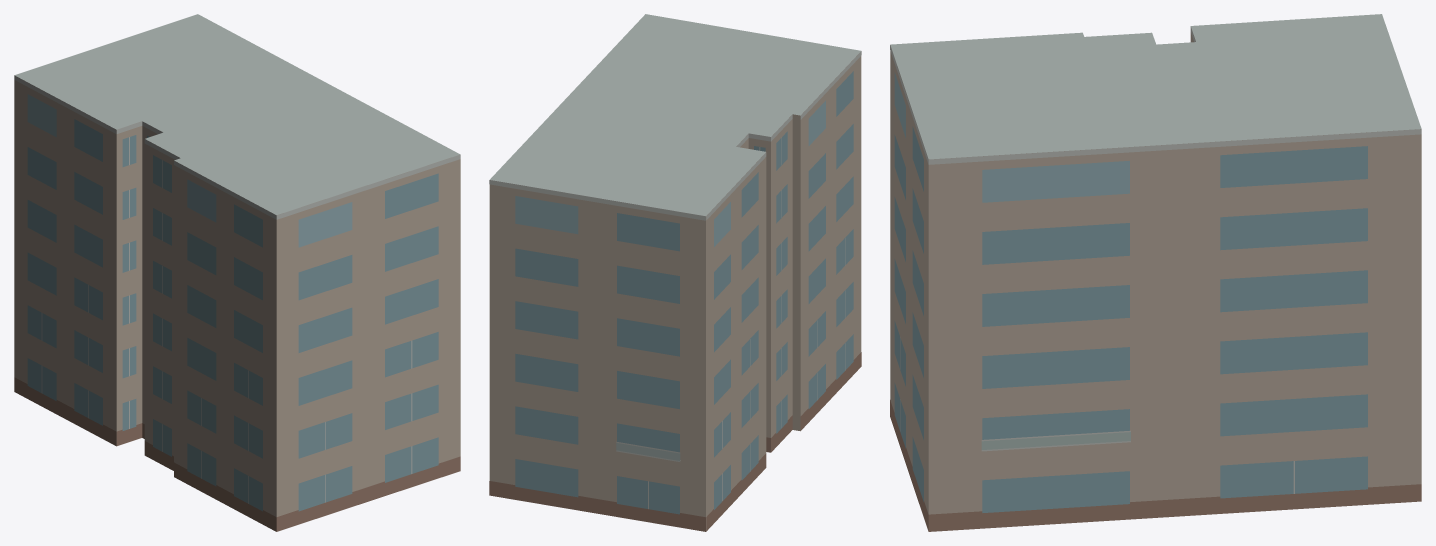
Rendered from survey-upis-32734521.glb.
The picture shows the model from 3 angles, left to right: view 1: azimuth 30°, elevation 25°; view 2: azimuth 150°, elevation 25°; view 3: azimuth 270°, elevation 25°; orthographic projection. The views are drawn at different scales.
Visible parts, largest first — view 1: survey-upis-32734521.tmp; view 2: survey-upis-32734521.tmp; view 3: survey-upis-32734521.tmp.
Boxes of the visible parts, left/top/right/bottom form: survey-upis-32734521.tmp: left=14, top=14, right=460, bottom=531; survey-upis-32734521.tmp: left=489, top=14, right=861, bottom=531; survey-upis-32734521.tmp: left=890, top=14, right=1421, bottom=531.
Bounding box in the file's own units: 14.17 × 16.9 × 21.87.
